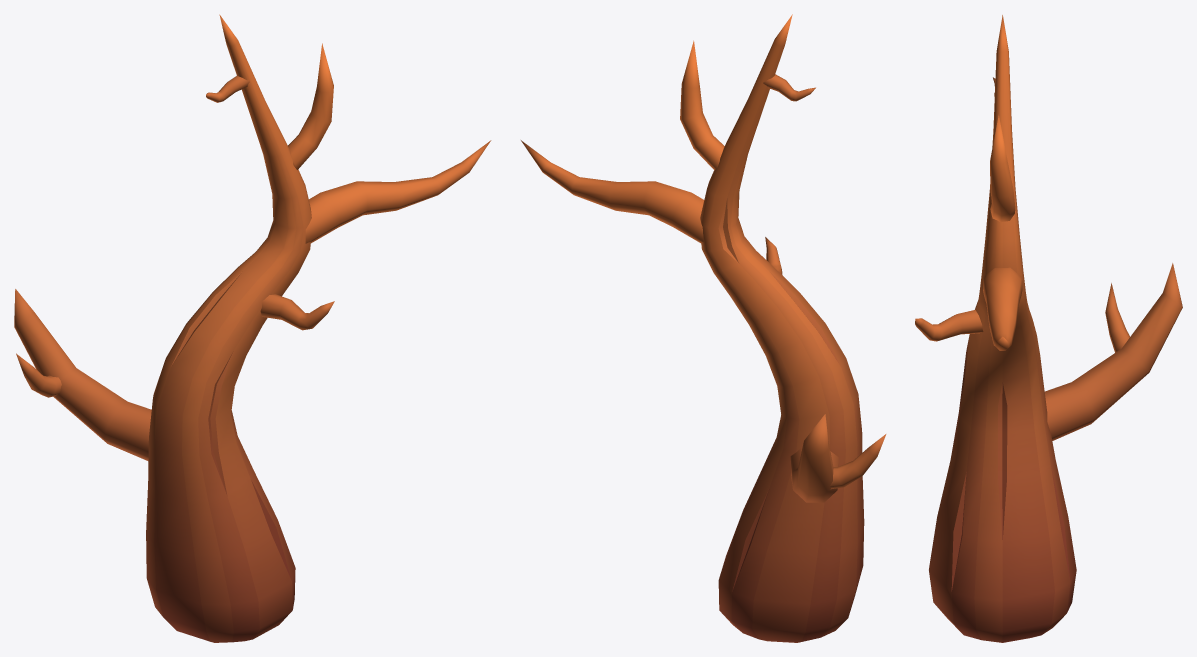
File: Tree_Bare_1_C_Color1.fbx
The picture shows the model from 3 angles, left to right: view 1: azimuth 30°, elevation 25°; view 2: azimuth 150°, elevation 25°; view 3: azimuth 270°, elevation 25°; orthographic projection.
Visible parts, largest first — view 1: Tree_Bare_1_C_Color1; view 2: Tree_Bare_1_C_Color1; view 3: Tree_Bare_1_C_Color1.
Boxes of the visible parts, x1,y1,x2,y2 form: Tree_Bare_1_C_Color1: (14, 14, 491, 642); Tree_Bare_1_C_Color1: (521, 14, 886, 642); Tree_Bare_1_C_Color1: (915, 15, 1182, 642).
Size of the model in its own units: 3.74 by 5.26 by 2.07.
